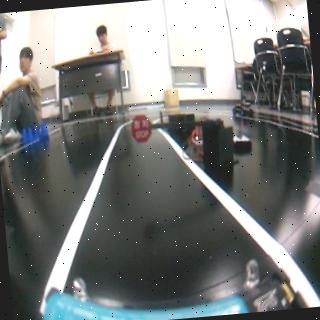stop: (130, 113, 155, 147)
